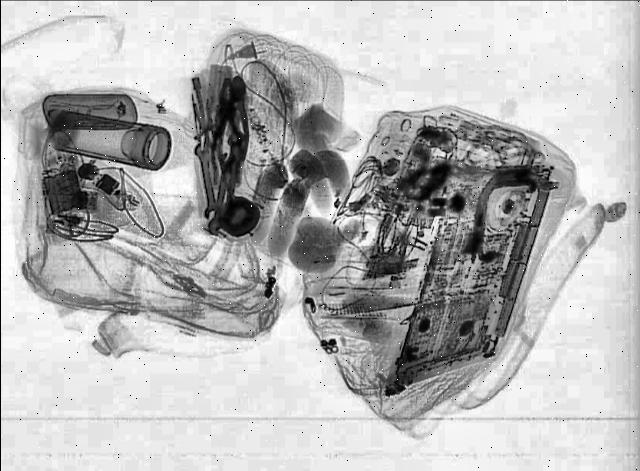Pliers: (210, 76, 253, 162), (208, 79, 246, 158)
Wrench: (190, 137, 223, 219)
